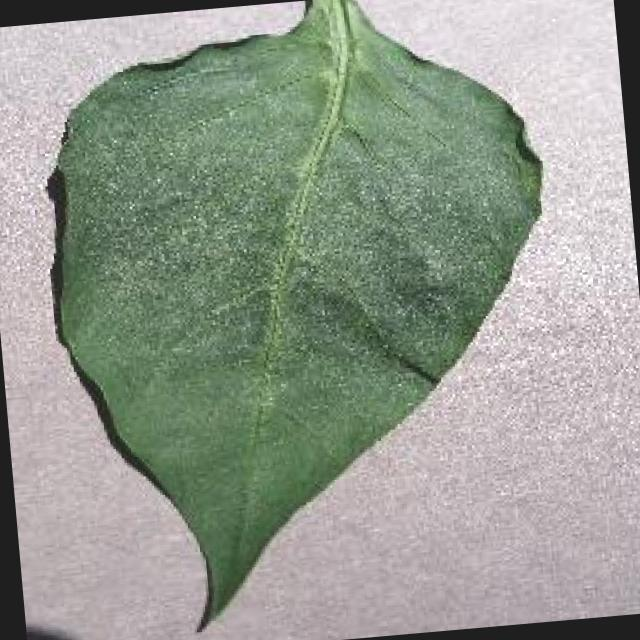healthy: (57, 0, 539, 627)
